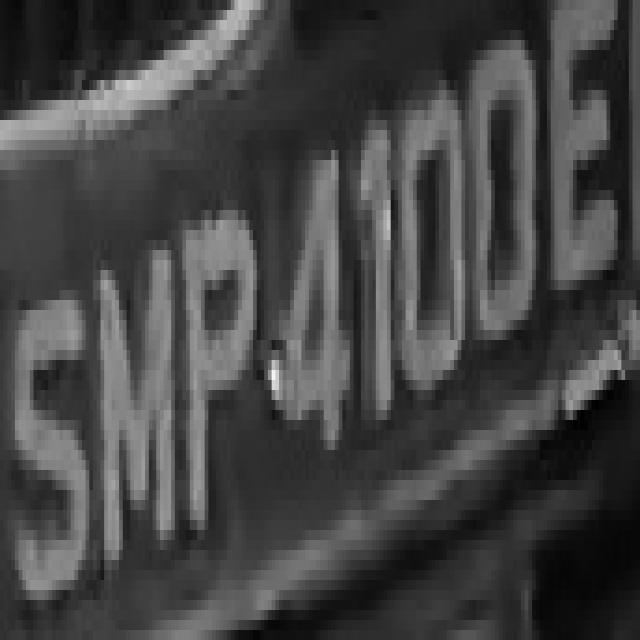0: (465, 30, 540, 440), (398, 60, 469, 420)
1: (346, 80, 394, 450)
4: (260, 110, 350, 500)
E: (536, 10, 625, 310)
M: (85, 210, 175, 580)
P: (186, 190, 264, 550)
S: (4, 250, 93, 640)
